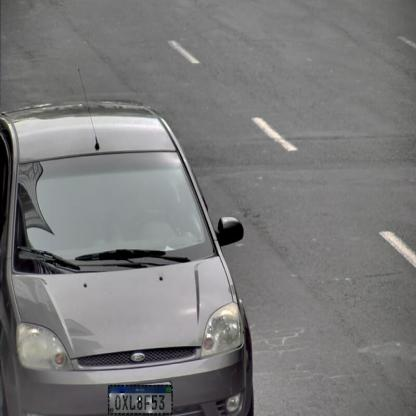PlacaM: (108, 384, 173, 414)
